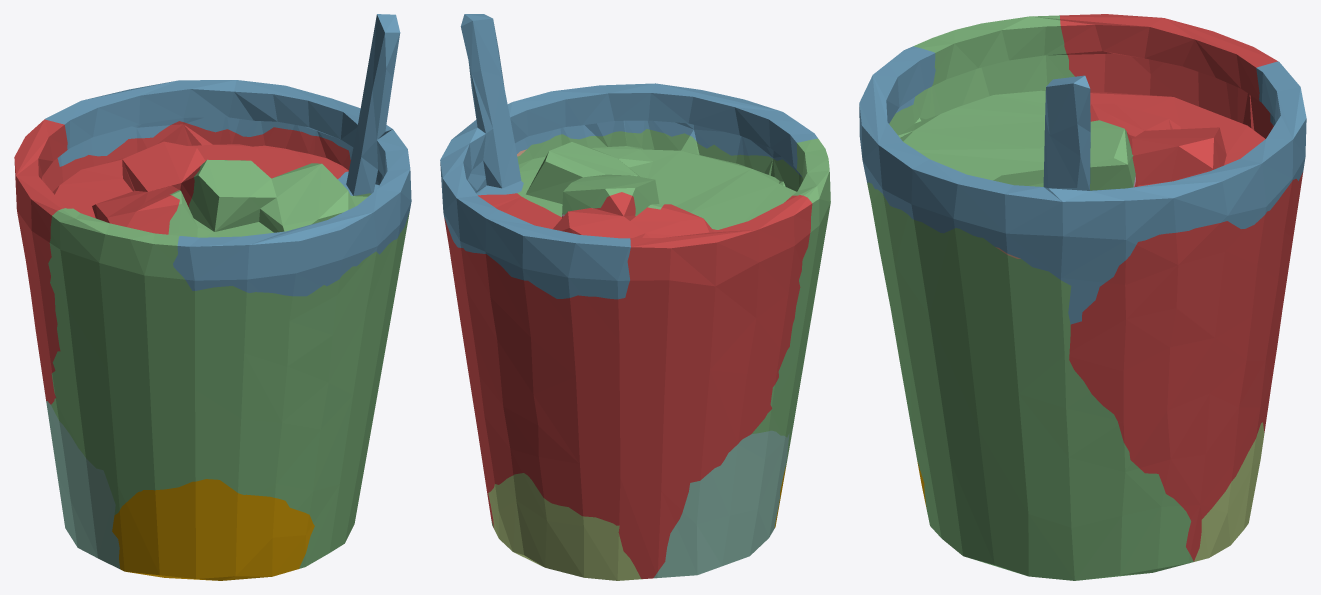
Rendered from mode_13_8pcs.glb.
3 views of the same model, side by side, from view 1: azimuth 30°, elevation 25°; view 2: azimuth 150°, elevation 25°; view 3: azimuth 270°, elevation 25° (orthographic). The views are drawn at different scales.
Parts seen in each view (by area): view 1: piece_3.obj, piece_2.obj, piece_1.obj, piece_0.obj, piece_4.obj; view 2: piece_1.obj, piece_2.obj, piece_3.obj, piece_4.obj, piece_5.obj; view 3: piece_3.obj, piece_1.obj, piece_2.obj, piece_5.obj.
Boxes of the visible parts, x1,y1,x2,y2 form: piece_3.obj: (48,159,409,568); piece_2.obj: (45,14,411,296); piece_1.obj: (14,119,350,404); piece_0.obj: (112,479,314,580); piece_4.obj: (46,401,120,568); piece_1.obj: (444,192,812,578); piece_2.obj: (440,14,817,299); piece_3.obj: (491,129,830,527); piece_4.obj: (654,430,789,578); piece_5.obj: (488,473,642,580); piece_3.obj: (867,15,1193,580); piece_1.obj: (1060,14,1303,561); piece_2.obj: (859,46,1306,324); piece_5.obj: (1194,422,1264,561).
Bounding box in the file's own units: 0.782 × 1 × 0.7671.
